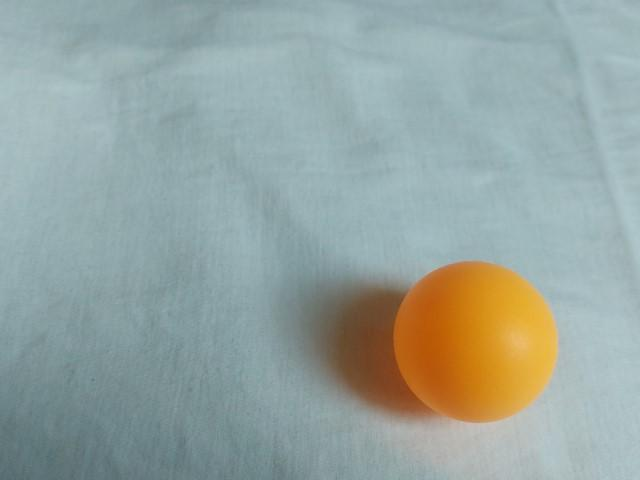oball: (381, 255, 567, 434)
